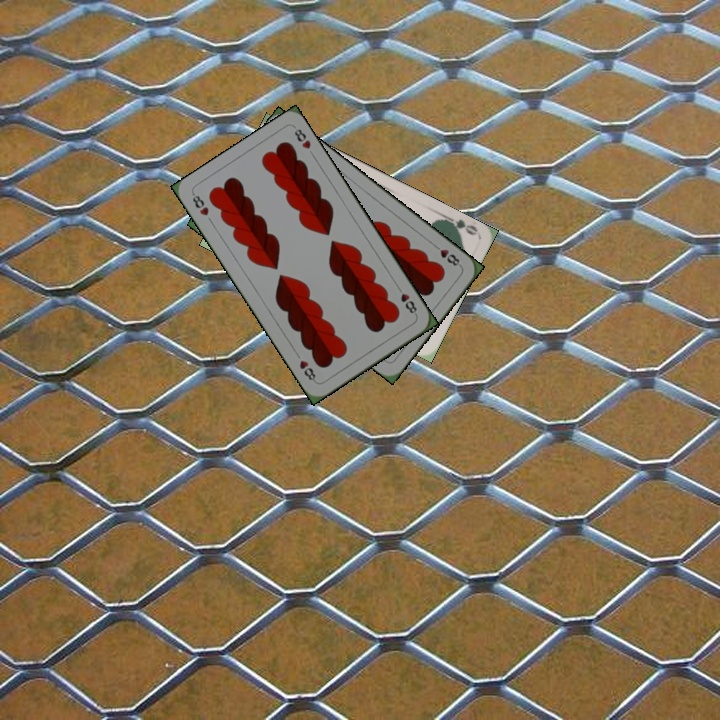GO: (440, 212, 480, 238)
H8: (429, 240, 464, 269), (393, 282, 420, 318), (188, 189, 211, 218)
